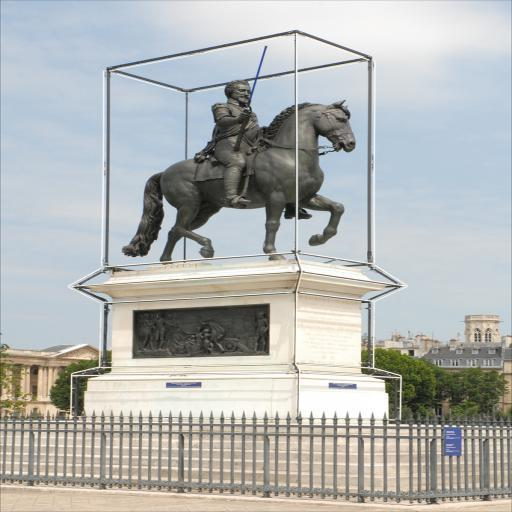horse: (116, 97, 358, 265)
